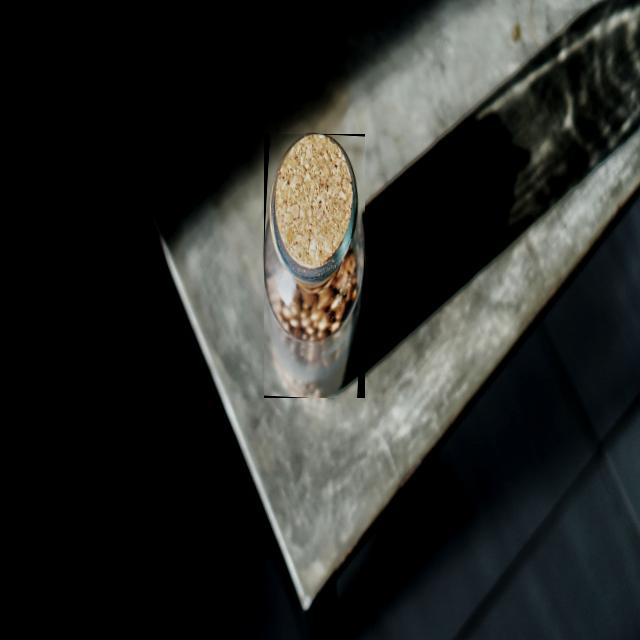Bottle: (264, 134, 364, 398)
